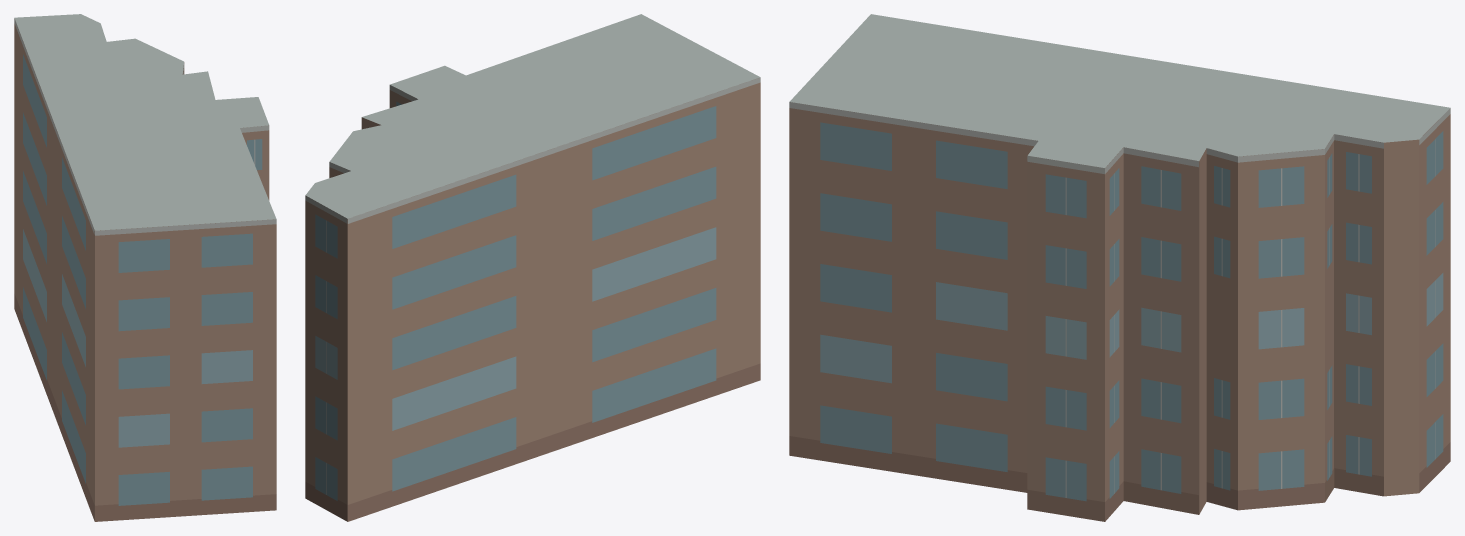
The model's file is survey-upis-32875240.glb.
The picture shows the model from 3 angles, left to right: view 1: azimuth 30°, elevation 25°; view 2: azimuth 150°, elevation 25°; view 3: azimuth 270°, elevation 25°; orthographic projection. The views are drawn at different scales.
Parts seen in each view (by area): view 1: survey-upis-32875240.tmp; view 2: survey-upis-32875240.tmp; view 3: survey-upis-32875240.tmp.
Boxes of the visible parts, x1=… form: survey-upis-32875240.tmp: x1=14, y1=14, x2=276, y2=521; survey-upis-32875240.tmp: x1=305, y1=14, x2=760, y2=521; survey-upis-32875240.tmp: x1=789, y1=14, x2=1450, y2=521.
Size of the model in its own units: 13.28 by 14.2 by 24.07.
